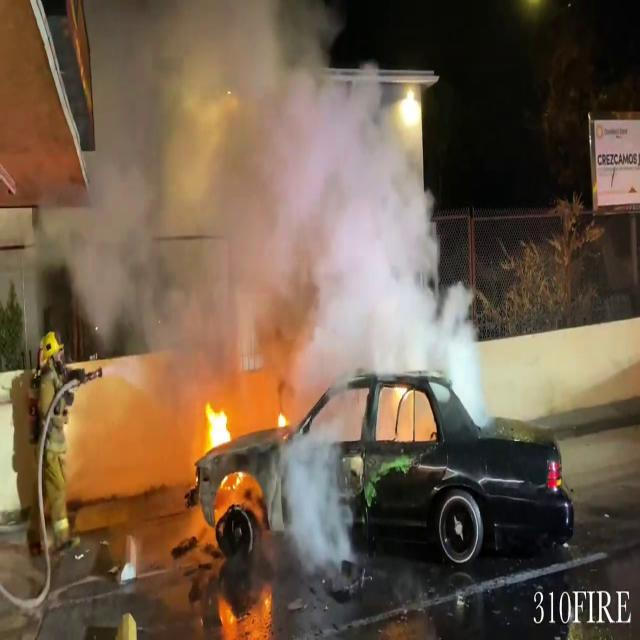Fire: (214, 586, 278, 639), (194, 398, 238, 459)
Smoke: (44, 1, 482, 411)
